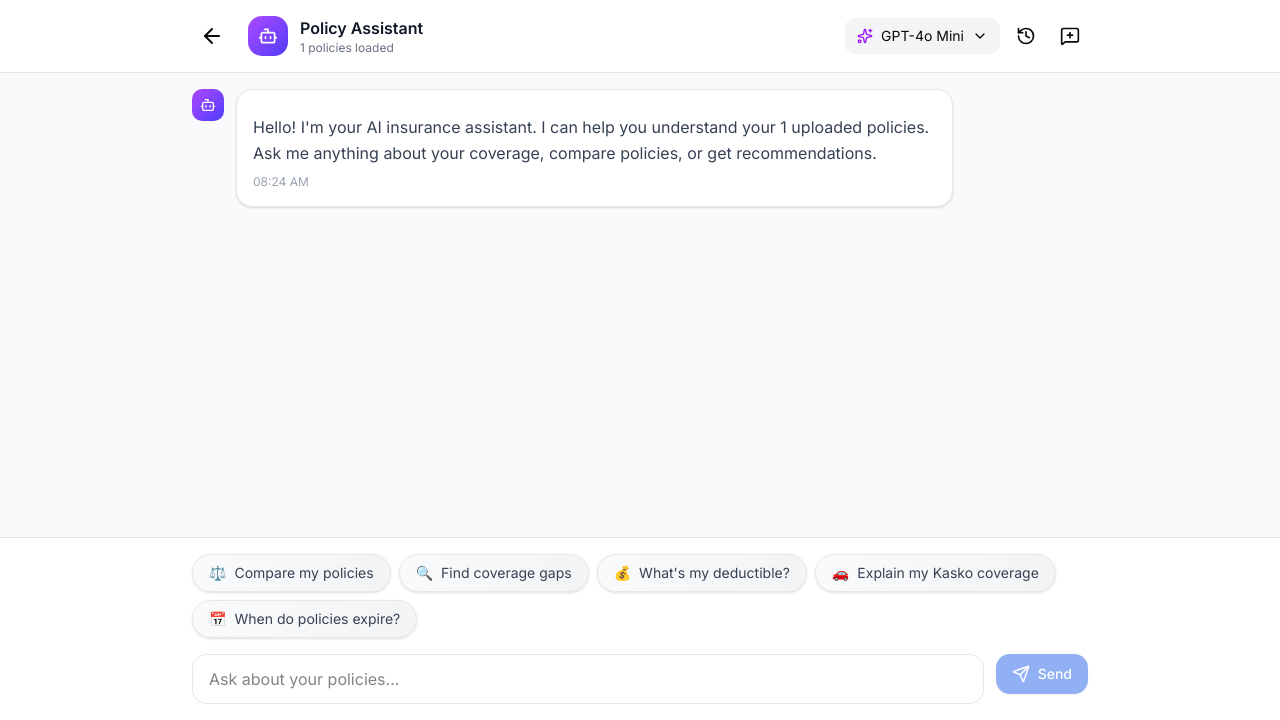
Test: PolicyChat › message sending › sends from quick action chip
The width and height of the screenshot is (1280, 720).
Click the text "Compare my policies" at (304, 573), box [234,563,374,583]
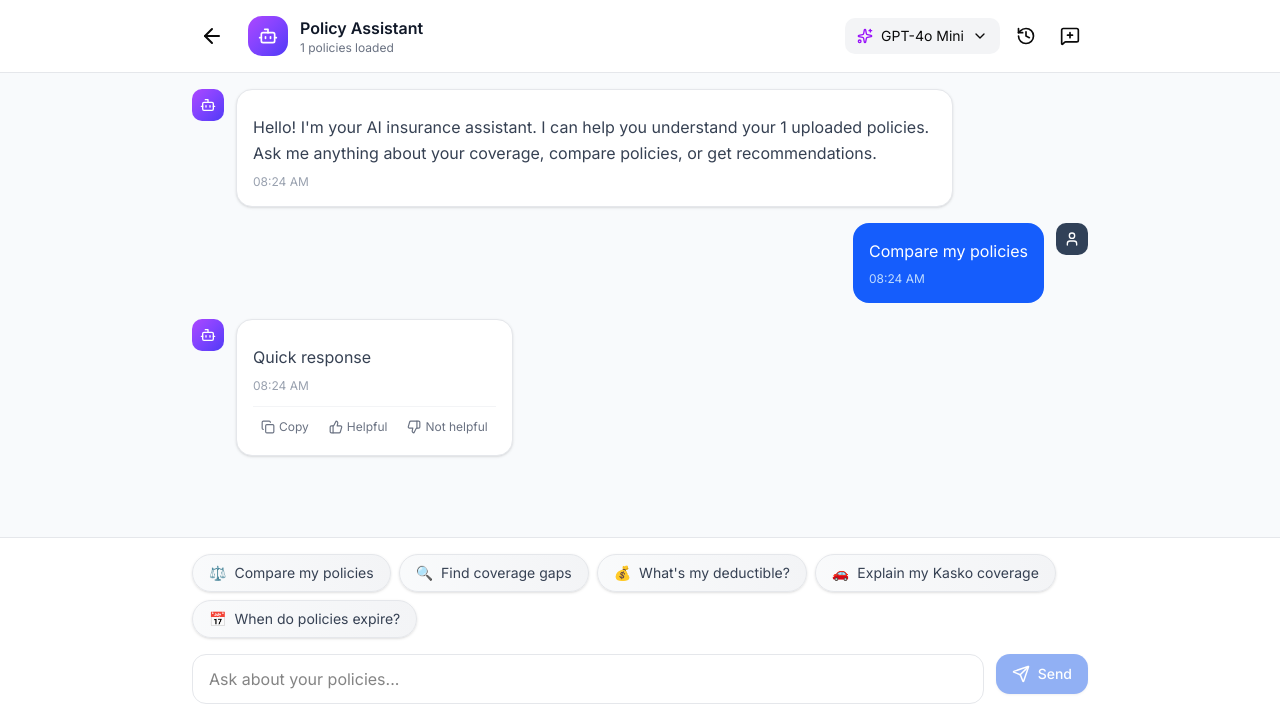
Expected: the text "Quick response" is shown, [253,347,371,367]
